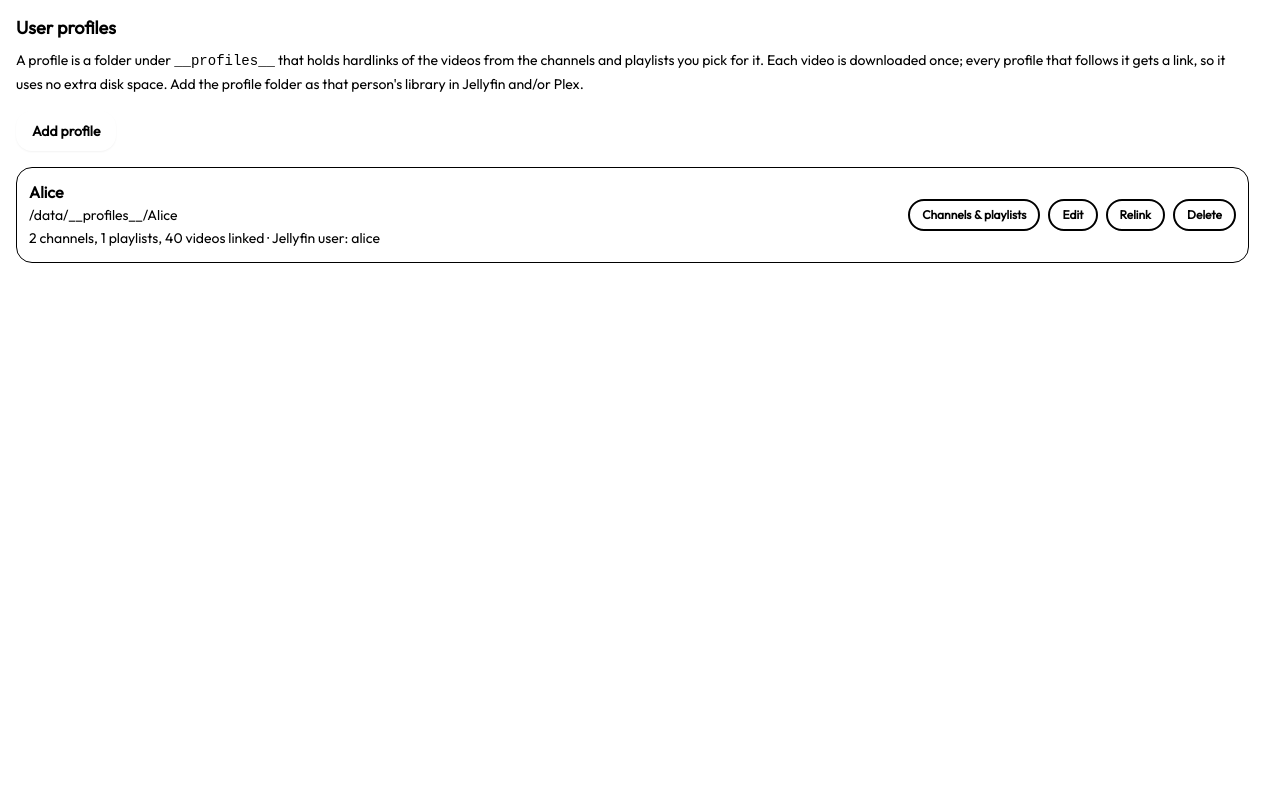
Scenario: ProfilesSection › Channels & playlists opens the subscriptions dialog for the profile
The width and height of the screenshot is (1280, 800).
Click the button "Channels & playlists" at (974, 215), box [908,199,1040,231]
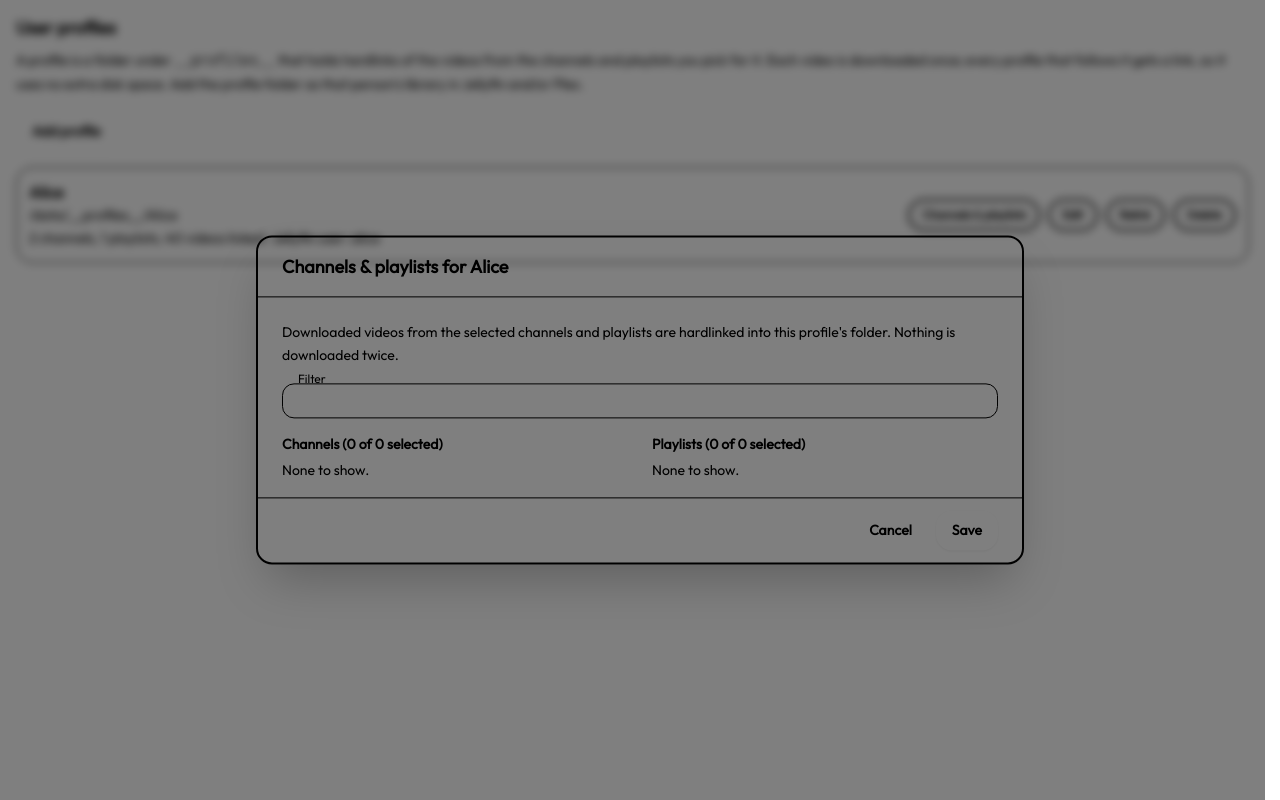
Expected: the text "Channels & playlists for Alice" is shown, [282,255,508,278]
